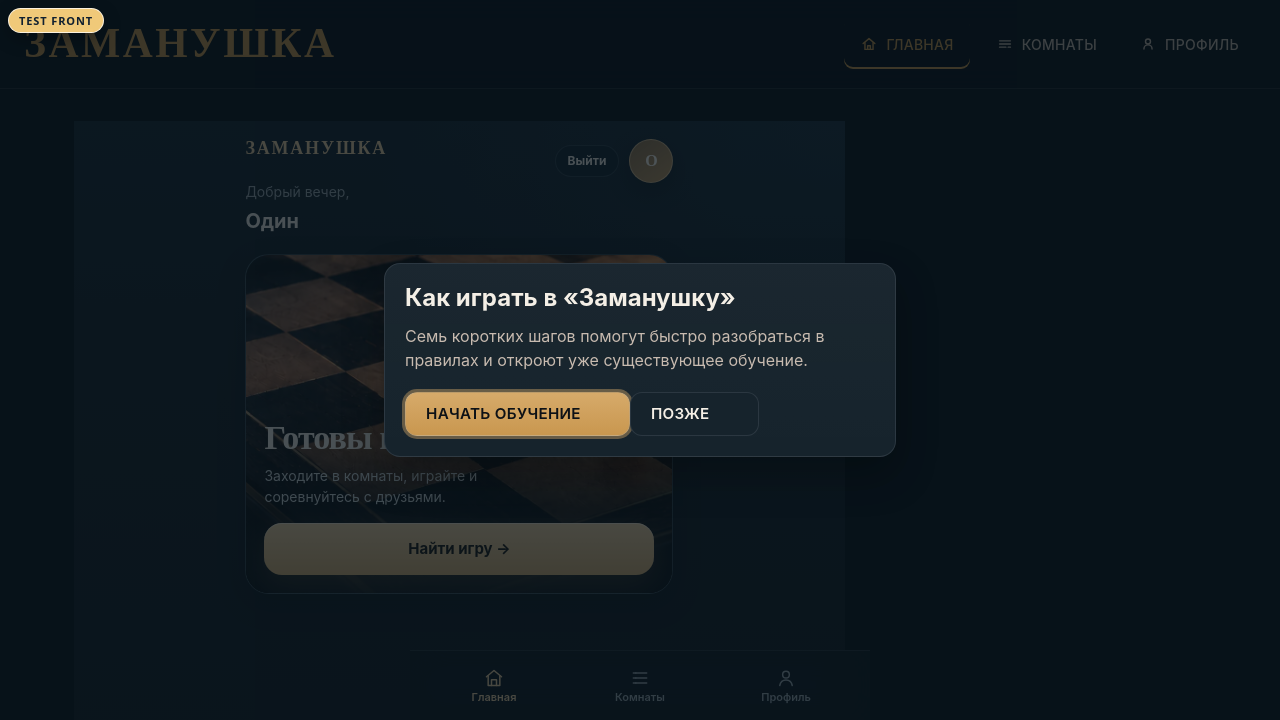
Scenario: EPIC-10 rules onboarding › keeps the shell usable when mark-seen fails
The width and height of the screenshot is (1280, 720).
Click the button "Позже".
click(694, 414)  # box [630,392,759,436]
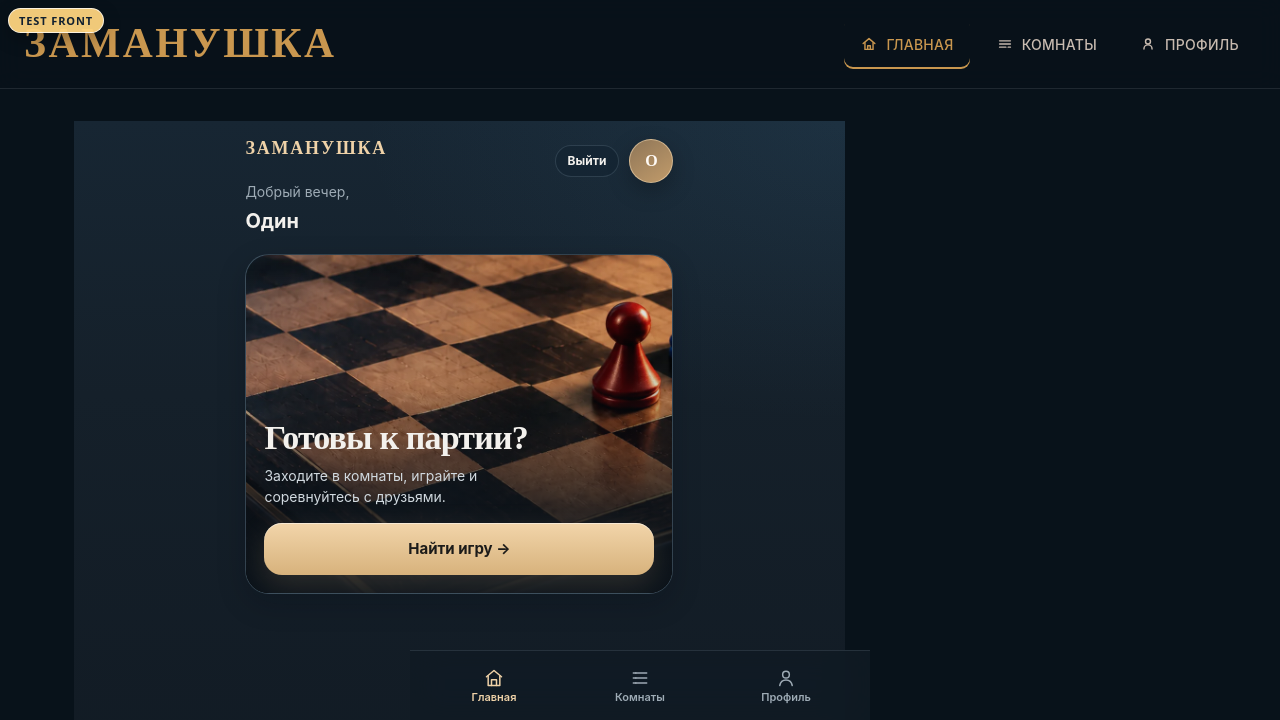
Expected: the navigation bar named "Primary navigation" is shown, [843,18,1256,70]
Now the dialog is gone
